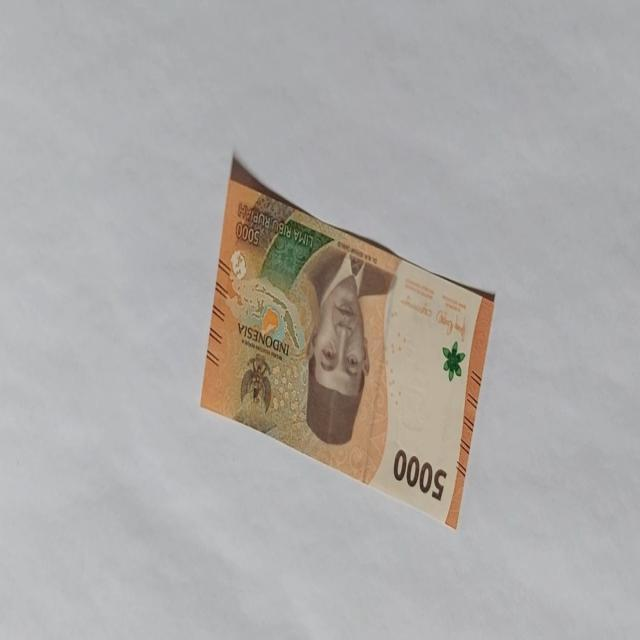lima ribu rupiah: (199, 154, 496, 530), (302, 247, 372, 446)
